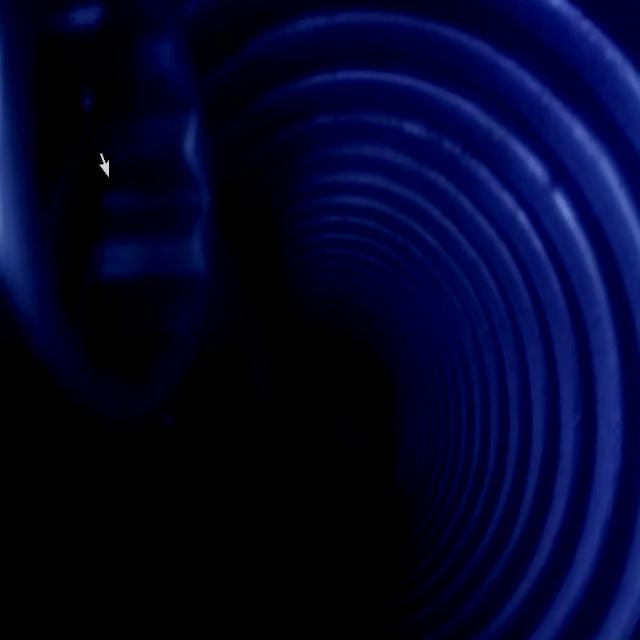metal piece: (0, 0, 222, 435)
